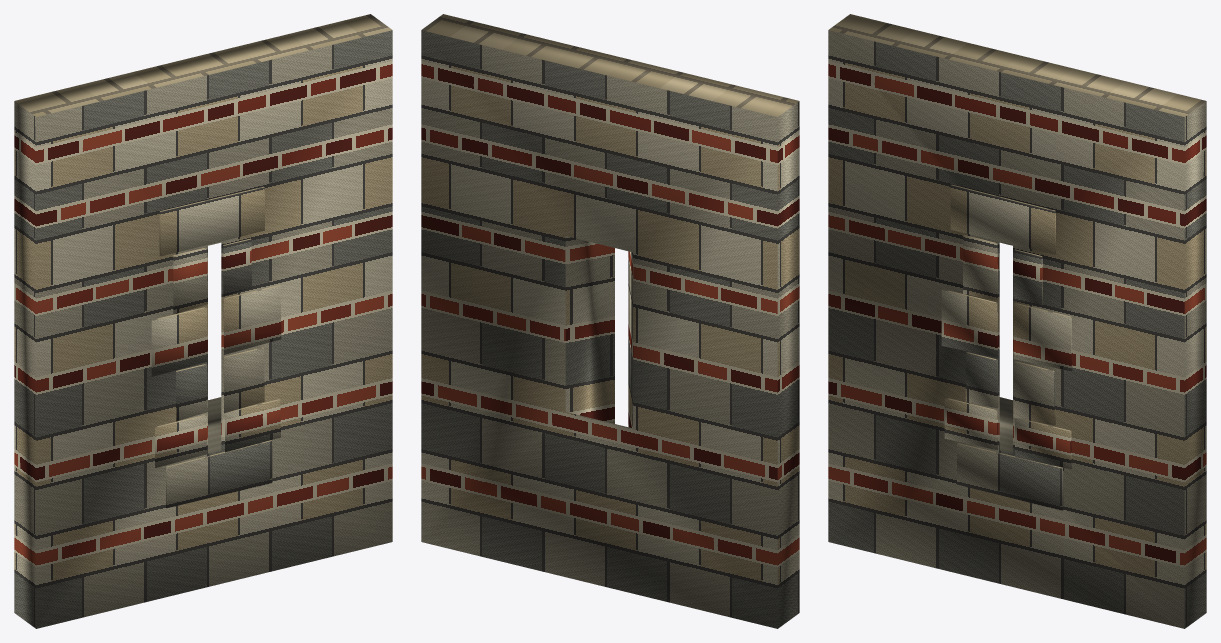
Rendered from byzantine stone arrowslit.glb.
3 views of the same model, side by side, from view 1: azimuth 30°, elevation 25°; view 2: azimuth 150°, elevation 25°; view 3: azimuth 330°, elevation 25° (orthographic).
Parts seen in each view (by area): view 1: ByzSwap_stone_arrowslit_Wall, Arrow Loop; view 2: ByzSwap_stone_arrowslit_Wall, Arrow Loop; view 3: ByzSwap_stone_arrowslit_Wall, Arrow Loop.
Part boxes in pixels (x1=…): ByzSwap_stone_arrowslit_Wall, Arrow Loop: x1=14, y1=14, x2=392, y2=628; ByzSwap_stone_arrowslit_Wall, Arrow Loop: x1=421, y1=14, x2=799, y2=628; ByzSwap_stone_arrowslit_Wall, Arrow Loop: x1=828, y1=14, x2=1206, y2=628.
Size of the model in its own units: 2 by 2.74 by 0.225.
3 materials, 3 textured.
